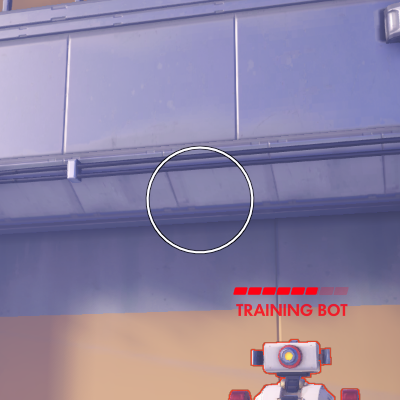hpbar: (233, 287, 348, 295)
